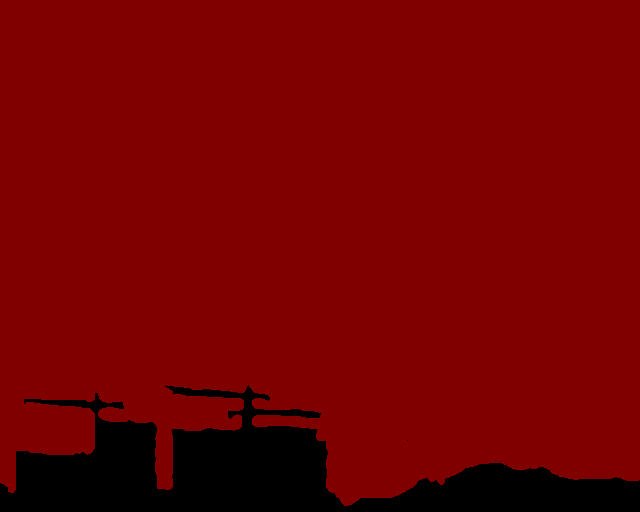Sky: (1, 1, 639, 505)
